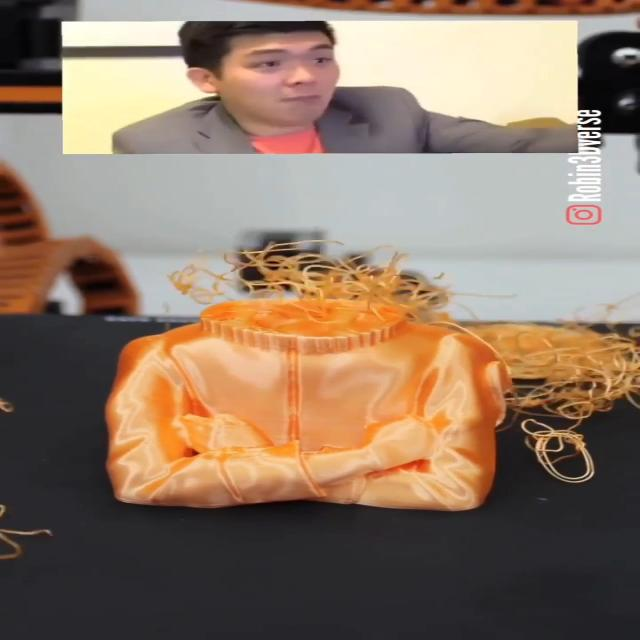spaghetti: (169, 241, 640, 484), (0, 508, 52, 566)
